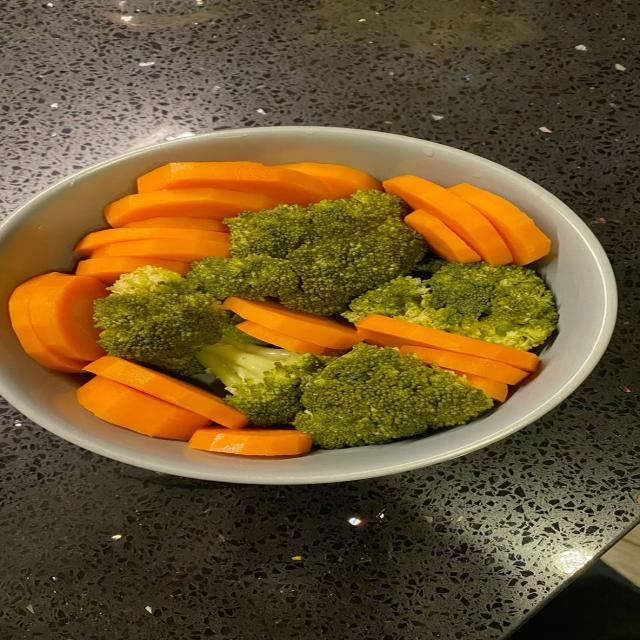broccoli: (189, 190, 426, 315), (294, 344, 492, 448), (344, 261, 558, 350), (94, 266, 228, 375), (198, 338, 328, 426), (186, 254, 299, 300), (223, 314, 267, 345)
carrot: (85, 357, 248, 429), (383, 176, 510, 264), (356, 314, 537, 372), (77, 376, 209, 441), (449, 183, 550, 265), (137, 161, 327, 204), (223, 297, 359, 348), (31, 274, 108, 363), (10, 285, 88, 372), (105, 188, 277, 227), (400, 346, 527, 385), (75, 228, 229, 256), (405, 209, 481, 262), (276, 162, 382, 199), (189, 427, 311, 456), (90, 238, 229, 263), (76, 256, 189, 285), (237, 321, 327, 355), (119, 216, 228, 233), (452, 370, 507, 402)
